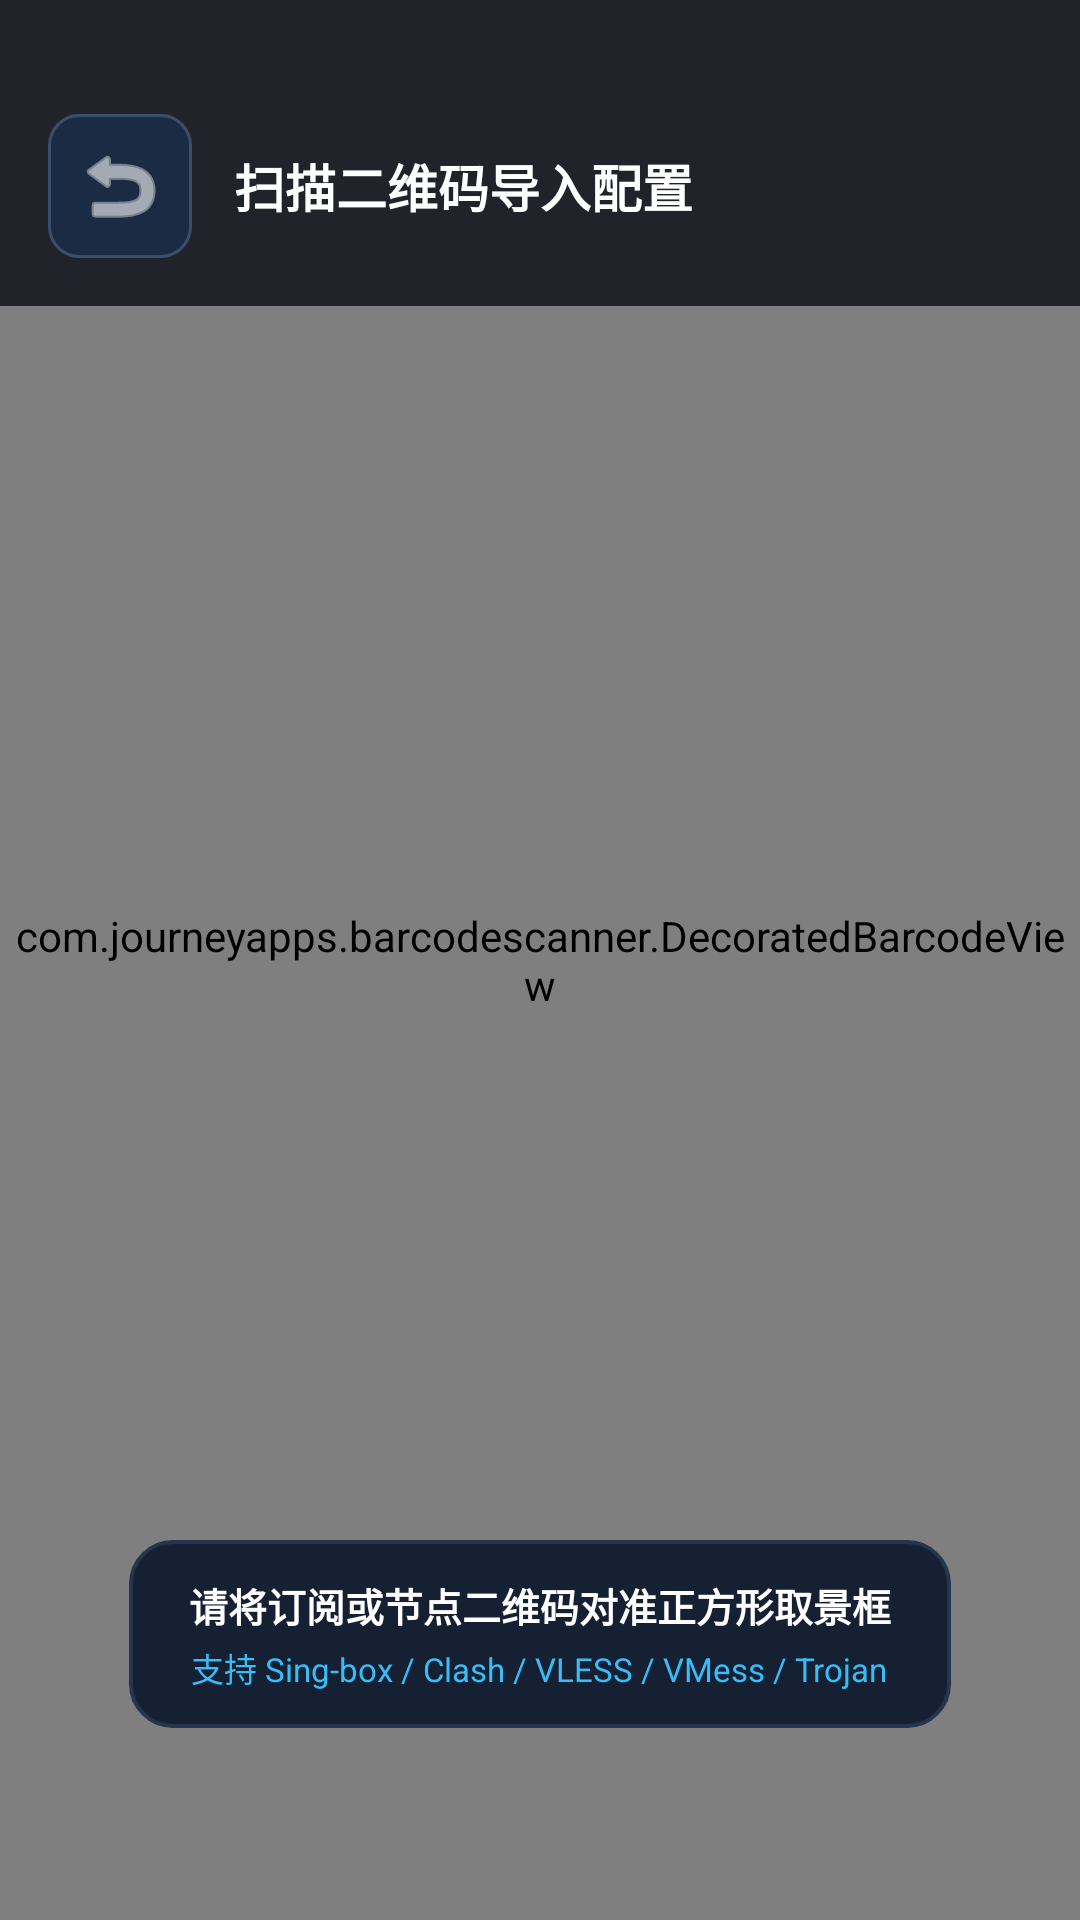

Icons on this 1080×1920 Android screen, each with the point to tap as (x=x, y=y):
返回: (x=120, y=186)
